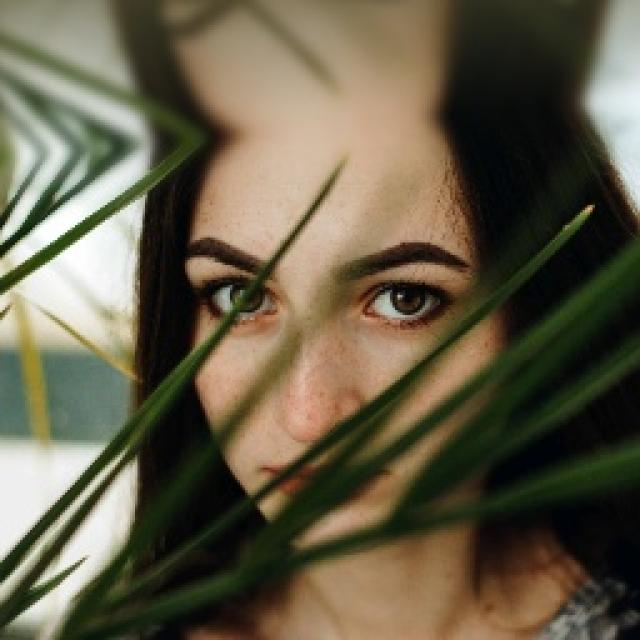no-glasses: (184, 252, 472, 342)
